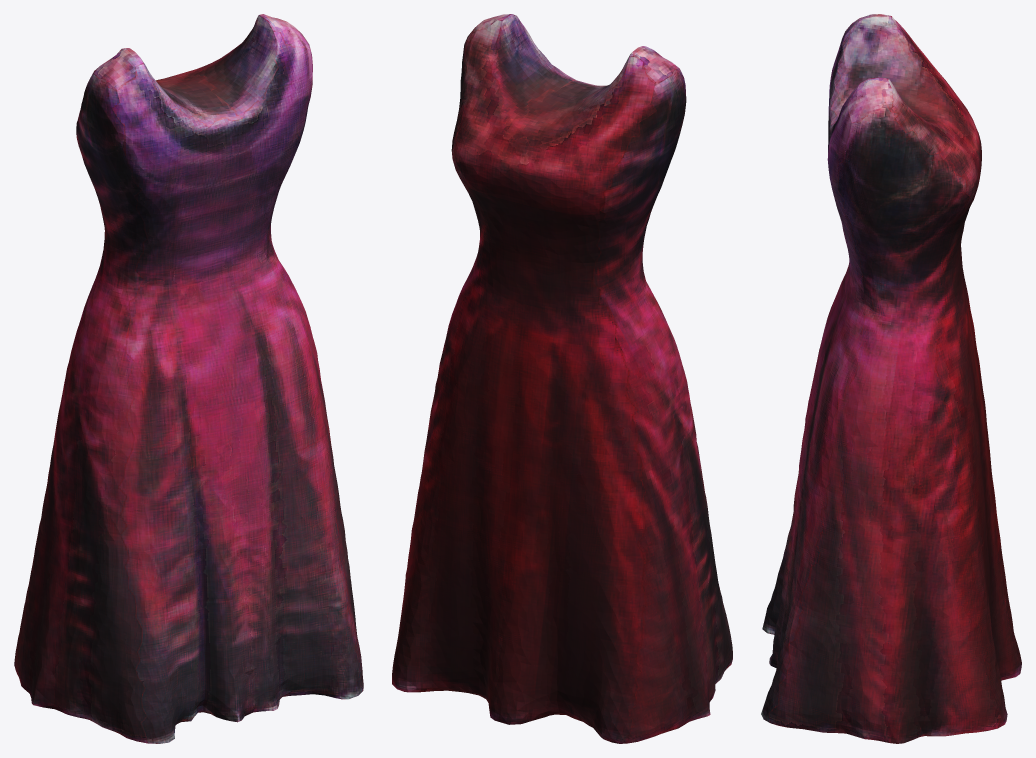
File: a designer dress.glb
3 renders of one model, left to right at view 1: azimuth 30°, elevation 25°; view 2: azimuth 150°, elevation 25°; view 3: azimuth 270°, elevation 25°, orthographic. The views are drawn at different scales.
Size of the model in its own units: 0.4956 by 1.01 by 0.3774.
Materials: 1 (1 with a texture image).
